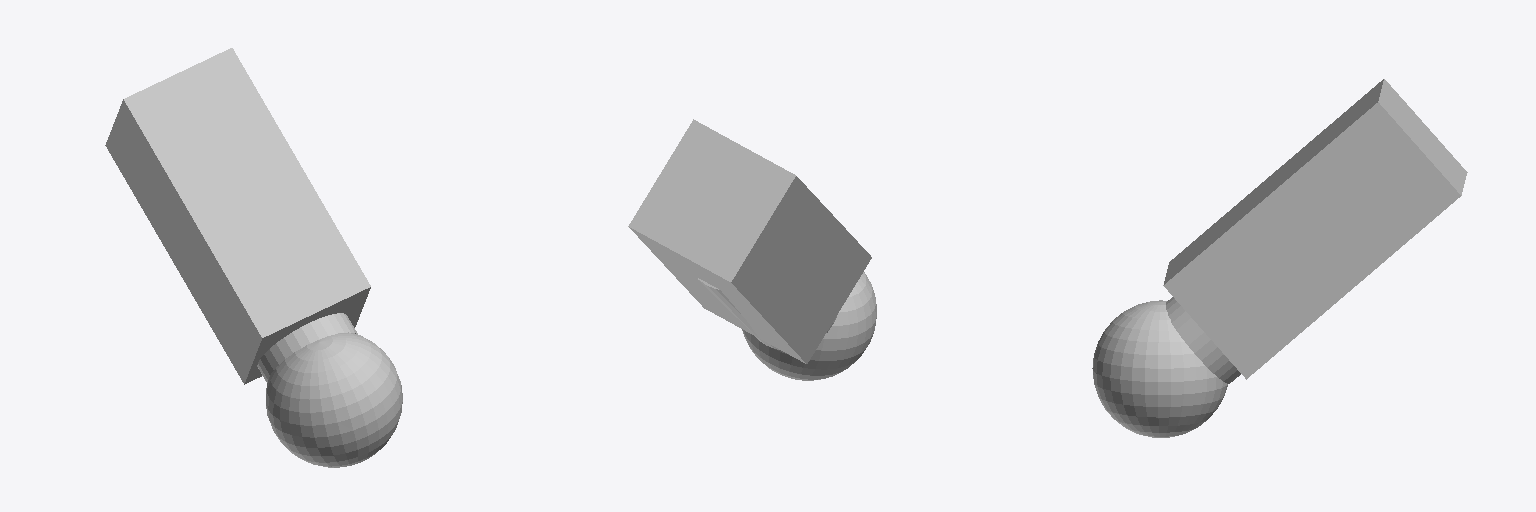
Rendered from leftforearm.obj.
3 renders of one model, left to right at view 1: azimuth 30°, elevation 25°; view 2: azimuth 150°, elevation 25°; view 3: azimuth 270°, elevation 25°, orthographic.
Parts seen in each view (by area): view 1: leftforearm_ArmLeftLower; view 2: leftforearm_ArmLeftLower; view 3: leftforearm_ArmLeftLower.
Boxes of the visible parts, x1,y1,x2,y2 form: leftforearm_ArmLeftLower: [105, 48, 402, 467]; leftforearm_ArmLeftLower: [628, 119, 876, 380]; leftforearm_ArmLeftLower: [1092, 79, 1467, 437].
Bounding box in the file's own units: 0.3951 × 0.7805 × 0.797.